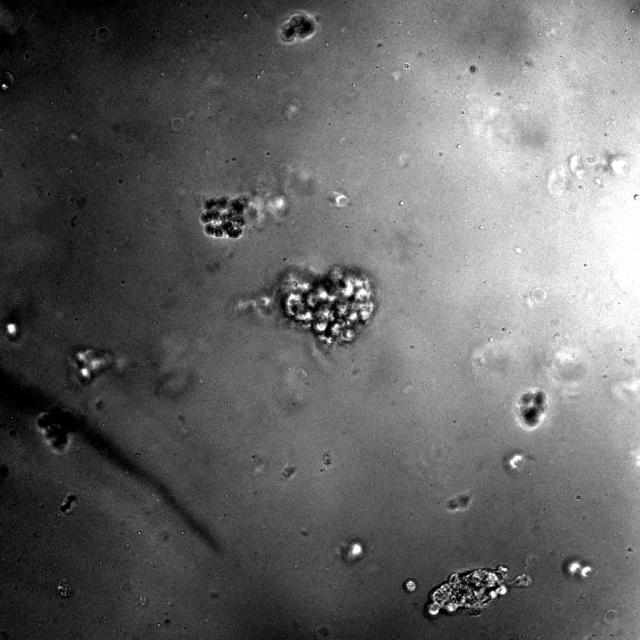organoid: (238, 265, 376, 346), (424, 565, 534, 619), (200, 196, 248, 238), (68, 346, 114, 388), (38, 406, 76, 454), (514, 388, 548, 430), (279, 11, 317, 45), (60, 493, 76, 514), (402, 578, 417, 593)
